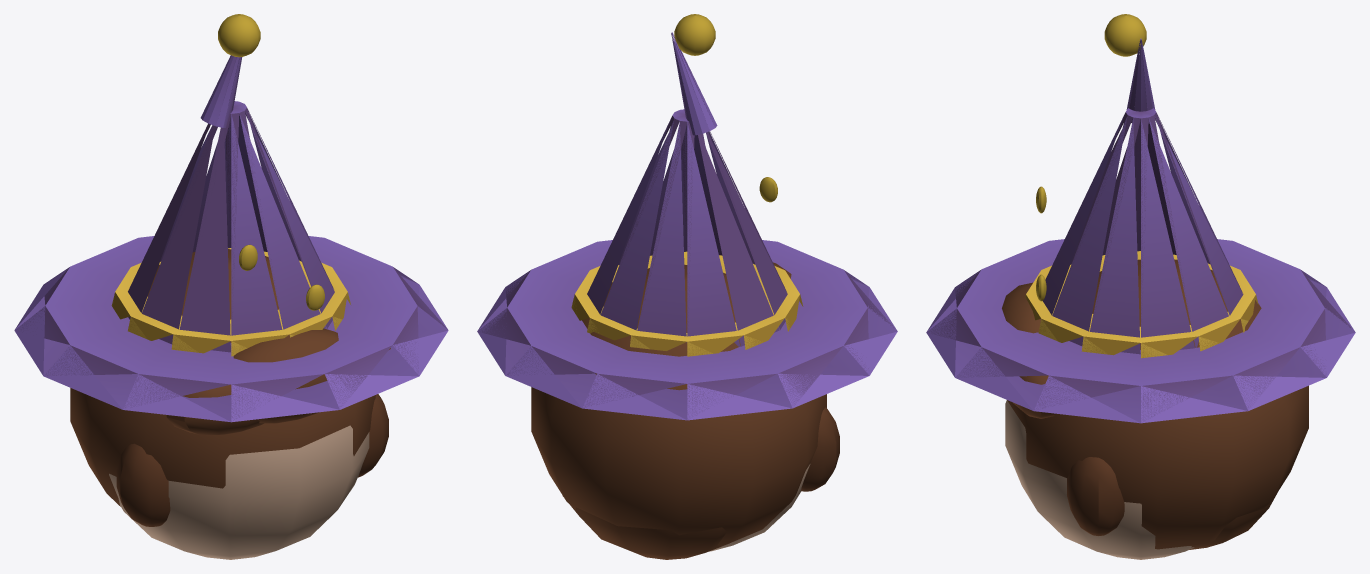
File: p-boy-wizard-head.glb
3 renders of one model, left to right at view 1: azimuth 30°, elevation 25°; view 2: azimuth 150°, elevation 25°; view 3: azimuth 270°, elevation 25°, orthographic. The views are drawn at different scales.
Visible parts, largest first — view 1: player_p-boy-wizard-head; view 2: player_p-boy-wizard-head; view 3: player_p-boy-wizard-head.
Boxes of the visible parts, x1,y1,x2,y2 form: player_p-boy-wizard-head: (14,14,448,559); player_p-boy-wizard-head: (477,14,897,559); player_p-boy-wizard-head: (926,14,1355,559).
Size of the model in its own units: 0.56 by 0.7638 by 0.56.
